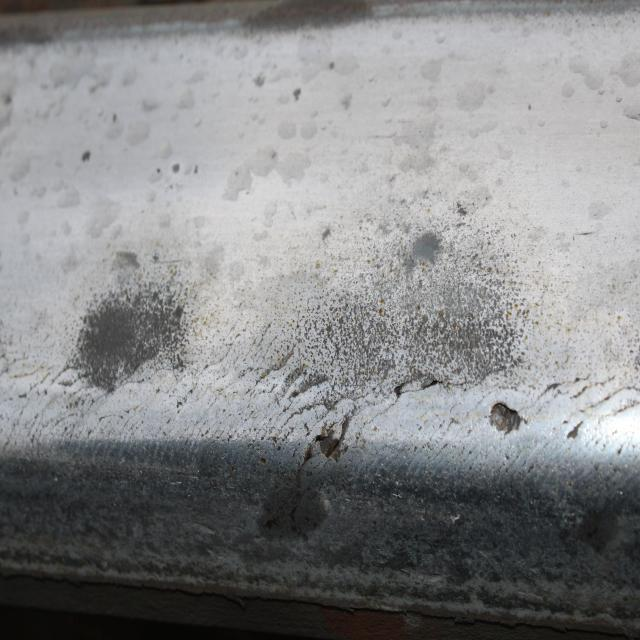broken_rail_medium: (288, 412, 354, 542), (487, 398, 525, 442)
